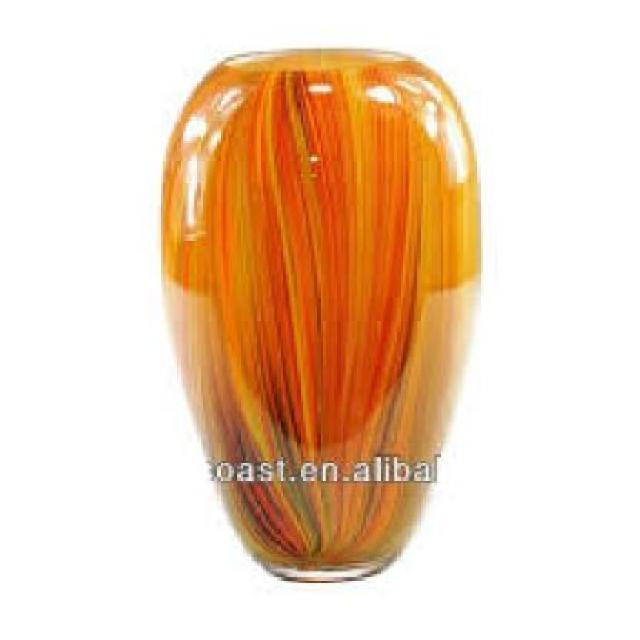kaca: (157, 49, 480, 580)
